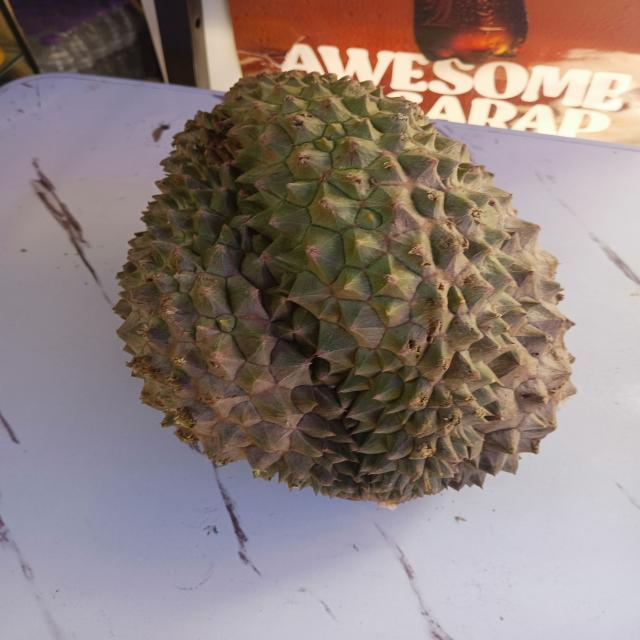mature: (117, 71, 575, 509)
